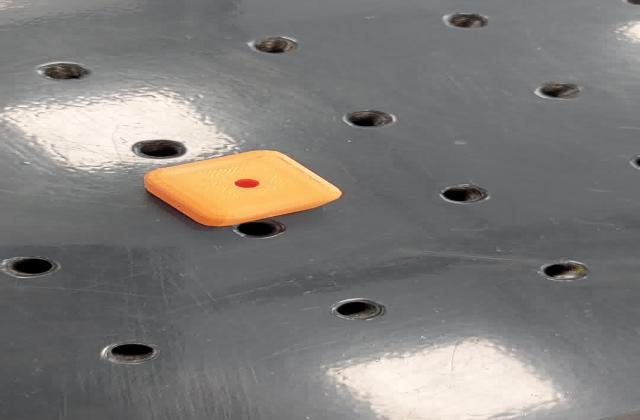cube: (134, 146, 348, 231)
